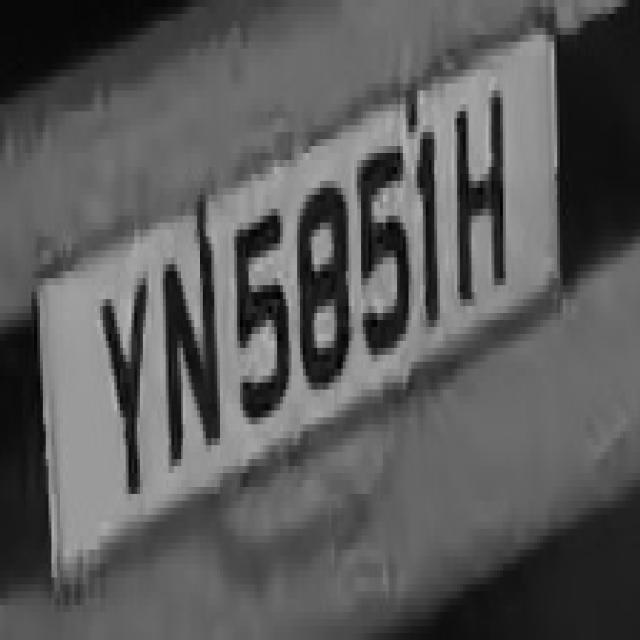1: (414, 90, 446, 362)
5: (352, 118, 412, 383), (232, 195, 294, 431)
8: (289, 167, 354, 410)
H: (448, 83, 512, 320)
N: (157, 223, 226, 480)
Y: (86, 264, 163, 522)
